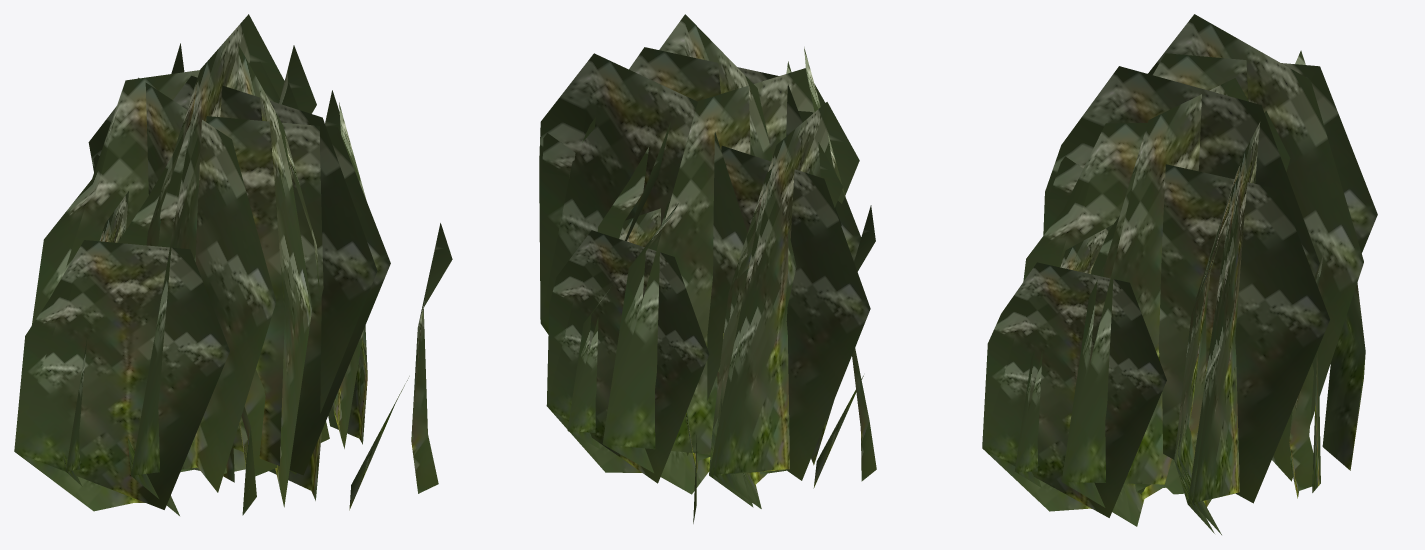
The model's file is white-flower.glb.
3 renders of one model, left to right at view 1: azimuth 30°, elevation 25°; view 2: azimuth 150°, elevation 25°; view 3: azimuth 270°, elevation 25°, orthographic. The views are drawn at different scales.
Parts seen in each view (by area): view 1: low, high; view 2: low, high; view 3: low, high.
Boxes of the visible parts, box(x1,y1,x2,y2) form: low: box(14, 14, 390, 509); high: box(14, 14, 452, 515); low: box(540, 14, 870, 483); high: box(539, 14, 876, 523); low: box(982, 14, 1377, 517); high: box(982, 14, 1365, 534).
Bounding box in the file's own units: 1.24 × 1.2 × 1.06.
Materials: 1 (1 with a texture image).
